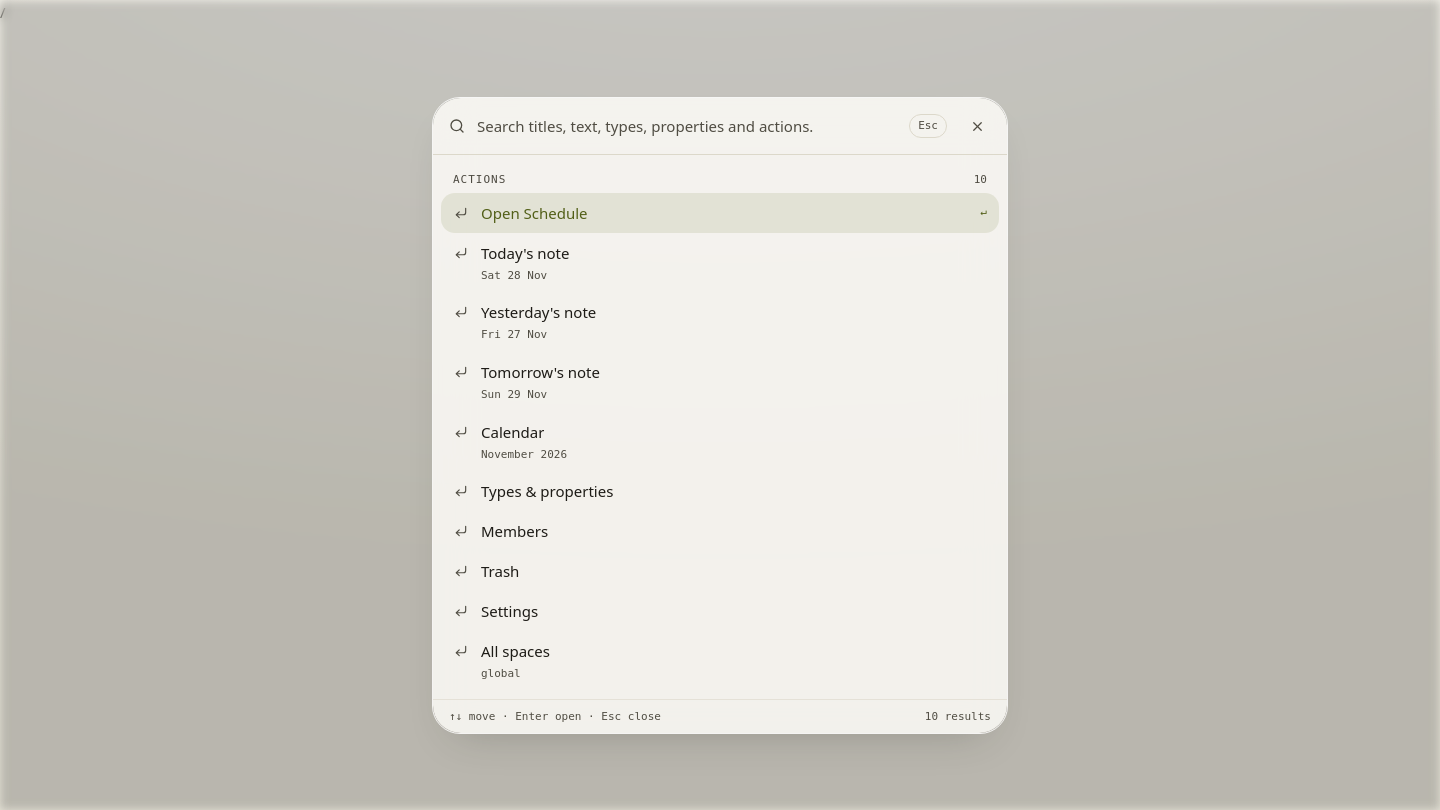
Scenario: CommandPalette › offers the journal's days and the calendar once the space answers
Expected: the option "Today's note Sat 28 Nov" is shown, [454,243,570,282]
Expected: the option "Yesterday's note Fri 27 Nov" is shown, [454,302,596,341]
Click the option "Calendar November 2026".
click(511, 441)  # box [454,422,567,461]
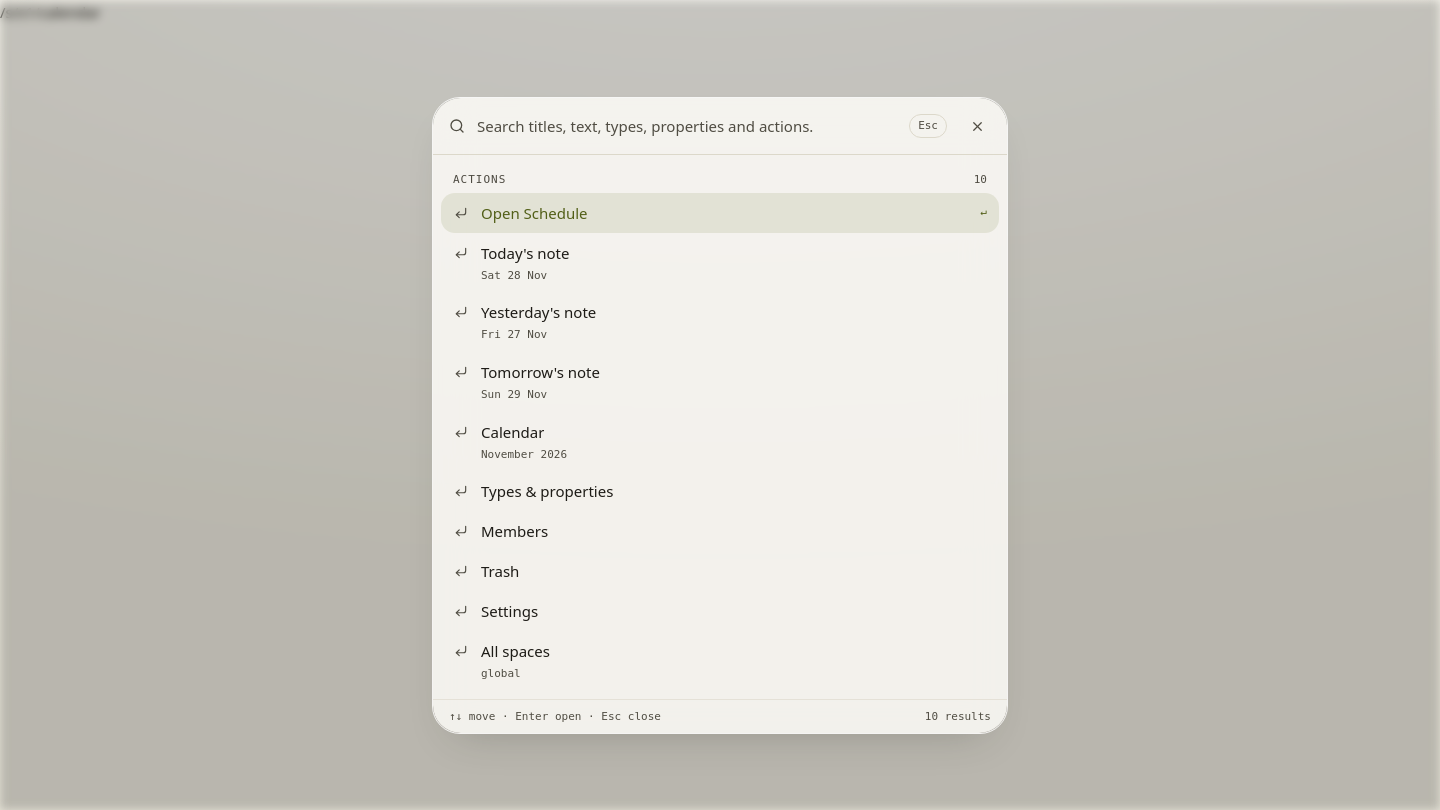
Result: the text with test id "location" reads "/s/s1/calendar" at [0,2,101,22]
